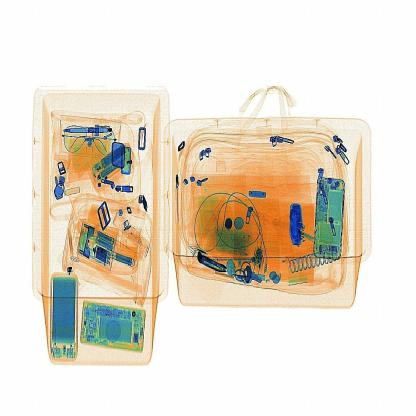scissors: (286, 198, 308, 252)
